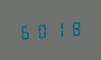eight: (66, 18, 81, 37)
one: (50, 20, 65, 38)
six: (18, 22, 33, 41)
zero: (34, 21, 49, 40)
